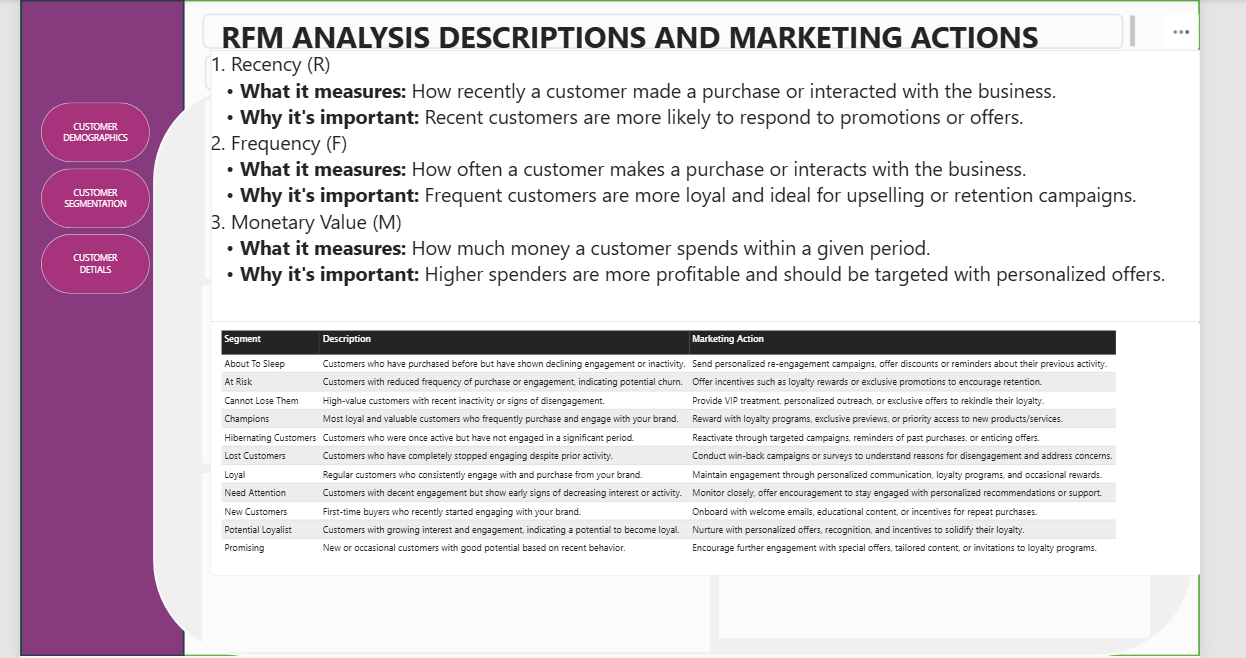

The dashboard page shown, as its layout file describes it:
{"tool":"powerbi","page":{"name":"SEGMENT DESCRIPTION","canvas":[1920,1080],"ordinal":3},"visuals":[{"type":"textbox","box":[309.1,84.1,1611.4,440.9],"z":0},{"type":"tableEx","fields":{"Values":["Segment Description.Segment","Segment Description.Description","Segment Description.Marketing Action"]},"box":[309.1,525,1611.4,413.6],"z":1},{"type":"textbox","box":[327.3,27.3,1486.4,56.8],"z":3},{"type":"pageNavigator","box":[34.1,168.2,177.3,311.4],"z":4}]}

Visuals, with their boxes on the page's 1920x1080 design canvas (x1, y1, x2, y2). These are canvas units, not pixel positions in the 1246x658 screenshot, which may show the page scaled, cropped or inside an application window:
textbox: {"x1": 309, "y1": 84, "x2": 1920, "y2": 525}
tableEx - Segment Description.Segment x Segment Description.Description: {"x1": 309, "y1": 525, "x2": 1920, "y2": 939}
textbox: {"x1": 327, "y1": 27, "x2": 1814, "y2": 84}
pageNavigator: {"x1": 34, "y1": 168, "x2": 211, "y2": 480}
